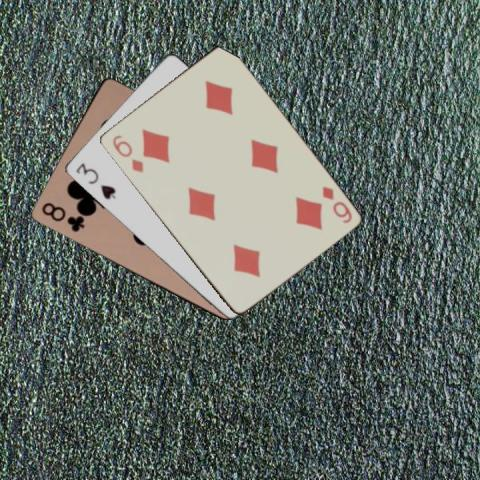3s: (72, 160, 117, 201)
6d: (108, 131, 144, 175), (319, 182, 353, 224)
8c: (38, 199, 86, 234)
